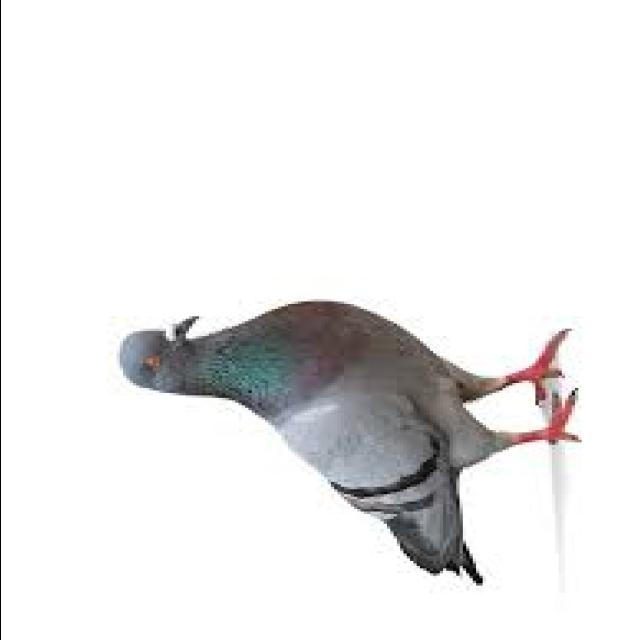pigeon: (72, 284, 588, 594)
